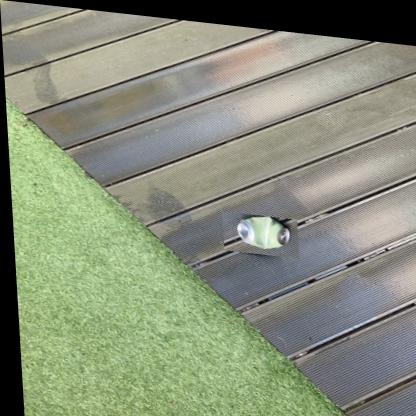trash: (237, 216, 289, 248)
